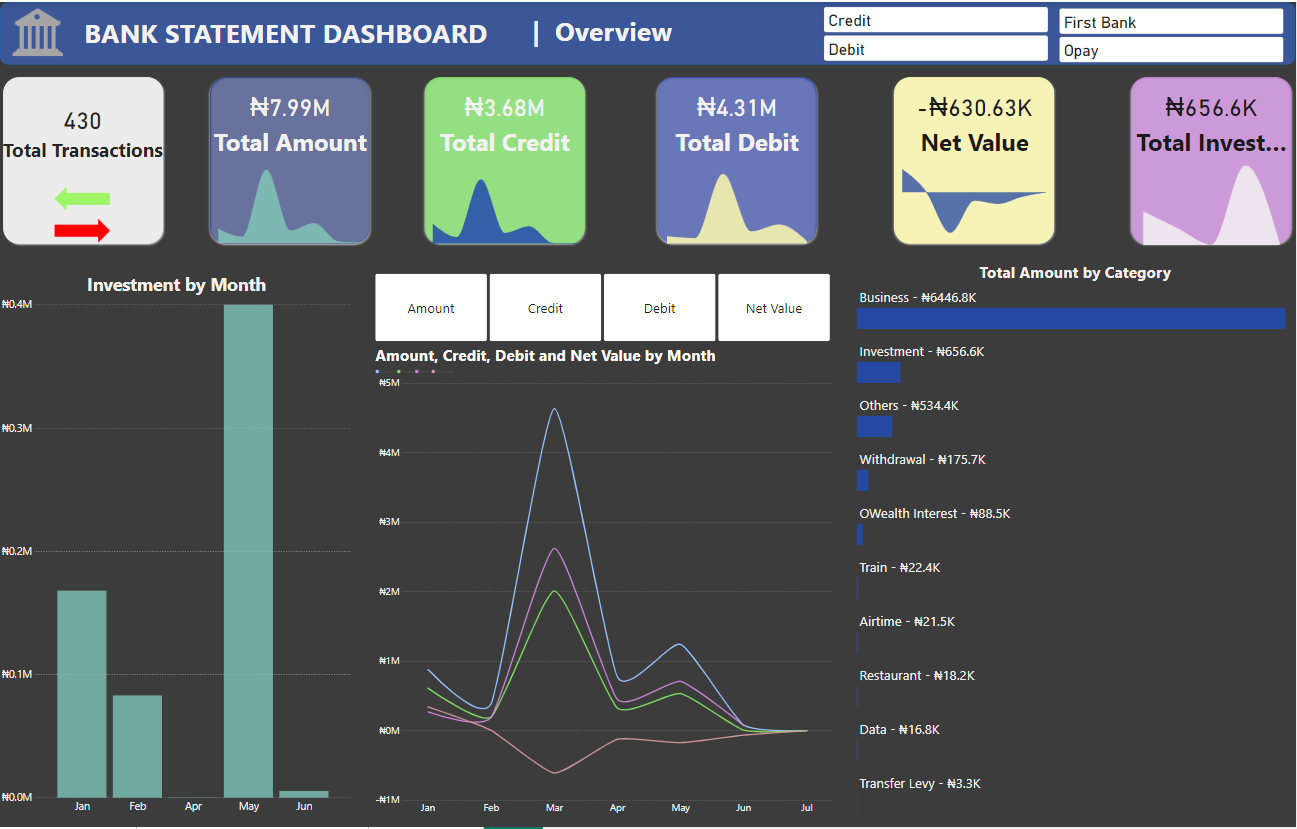

The dashboard page shown, as its layout file describes it:
{"tool":"powerbi","page":{"name":"Dashboard","canvas":[3920,2500],"ordinal":0},"visuals":[{"type":"shape","box":[0,0,3919.9,189.8],"z":0},{"type":"shape","box":[2695,217.5,503.8,522.5],"z":1000},{"type":"lineChart","fields":{"Y":["_Measures.Total Amount"],"Category":["Calendar.Month"]},"box":[1058.6,1033.6,1463.1,1433.1],"z":2000},{"type":"shape","box":[2696.5,215.7,503.3,523.3],"z":3000},{"type":"advancedSlicerVisual","fields":{"Values":["Measure Selector.Measure Selector"]},"box":[1053.6,818.9,1463.1,214.7],"z":4000},{"type":"shape","box":[1980,218,502,524],"z":5000},{"type":"shape","box":[1980,218,502,522],"z":6000},{"type":"shape","box":[1276,220,504,522],"z":7000},{"type":"shape","box":[1276,218,504,524],"z":8000},{"type":"shape","box":[627.2,215.7,503.3,523.3],"z":9000},{"type":"shape","box":[627.2,215.7,503.3,523.3],"z":10000},{"type":"card","fields":{"Values":["Measures (2).Total Amount"]},"box":[626.7,218.3,503.3,280],"z":11000},{"type":"card","fields":{"Values":["Measures (2).Total Credit"]},"box":[1276,220,504,280],"z":12000},{"type":"card","fields":{"Values":["_Measures.Net Profit"]},"box":[2696.5,219.7,504.3,279.6],"z":13000},{"type":"card","fields":{"Values":["Measures (2).Total Debit"]},"box":[1980,216,502,280],"z":14000},{"type":"areaChart","fields":{"Category":["Calendar.Month"],"Y":["_Measures.Total Amount"]},"box":[626.7,476.7,503.3,258.3],"z":15000},{"type":"areaChart","fields":{"Category":["Calendar.Month"],"Y":["_Measures.Total Debit"]},"box":[1980,478,502,260],"z":16000},{"type":"areaChart","fields":{"Category":["Calendar.Month"],"Y":["_Measures.Total Credit"]},"box":[1276,478,504,260],"z":17000},{"type":"areaChart","fields":{"Category":["Calendar.Month"],"Y":["_Measures.Net Value"]},"box":[2696.5,479.4,503.3,259.7],"z":18000},{"type":"clusteredBarChart","title":"Total Amount by Category","fields":{"Category":["Statement.Details"],"Y":["_Measures.Placeholder","_Measures.Total Amount"]},"box":[2586.6,784,1333.3,1682.8],"z":19000},{"type":"textbox","box":[249.7,30,1278.3,159.8],"z":20000},{"type":"shape","box":[0,219.7,503.3,523.3],"z":21000},{"type":"shape","box":[0,219.7,503.3,523.3],"z":22000},{"type":"shape","box":[3415.5,219.7,504.3,524.3],"z":23000},{"type":"shape","box":[3415.5,219.7,504.3,524.3],"z":24000},{"type":"card","fields":{"Values":["_Measures.Total Investment"]},"box":[3415.5,219.7,504.3,279.6],"z":25000},{"type":"areaChart","fields":{"Category":["Calendar.Month"],"Y":["_Measures.Total Investment"]},"box":[3415.5,479.4,504.3,259.7],"z":26000},{"type":"image","box":[30,15,164.8,154.8],"z":27000},{"type":"card","fields":{"Values":["_Measures.Total Transactions"]},"box":[0,219.7,499.3,334.6],"z":28000},{"type":"image","box":[54.9,554.3,389.5,179.8],"z":29000},{"type":"advancedSlicerVisual","fields":{"Values":["Statement.Bank"]},"box":[3200.8,15,689.1,174.8],"z":30000},{"type":"advancedSlicerVisual","fields":{"Values":["Statement.TransactionType"]},"box":[2486.7,10,689.1,174.8],"z":31000},{"type":"actionButton","title":"|  Overview","box":[1528,30,584.2,139.8],"z":32000},{"type":"clusteredColumnChart","fields":{"Category":["Calendar.Month"],"Y":["_Measures.Total Investment"]},"box":[0,818.9,993.7,1647.8],"z":33000}]}

Visuals, with their boxes in screenshot pixels (x1, y1, x2, y2), scaled from the page's 3920x2500 canvas onto the 1297x829 screenshot:
shape: BBox(0, 0, 1296, 63)
shape: BBox(892, 72, 1058, 245)
lineChart - _Measures.Total Amount x Calendar.Month: BBox(350, 343, 834, 818)
shape: BBox(892, 72, 1059, 245)
advancedSlicerVisual - Measure Selector.Measure Selector: BBox(349, 272, 833, 343)
shape: BBox(655, 72, 821, 246)
shape: BBox(655, 72, 821, 245)
shape: BBox(422, 73, 589, 246)
shape: BBox(422, 72, 589, 246)
shape: BBox(208, 72, 374, 245)
shape: BBox(208, 72, 374, 245)
card - Measures (2).Total Amount: BBox(207, 72, 374, 165)
card - Measures (2).Total Credit: BBox(422, 73, 589, 166)
card - _Measures.Net Profit: BBox(892, 73, 1059, 166)
card - Measures (2).Total Debit: BBox(655, 72, 821, 164)
areaChart - Calendar.Month x _Measures.Total Amount: BBox(207, 158, 374, 244)
areaChart - Calendar.Month x _Measures.Total Debit: BBox(655, 159, 821, 245)
areaChart - Calendar.Month x _Measures.Total Credit: BBox(422, 159, 589, 245)
areaChart - Calendar.Month x _Measures.Net Value: BBox(892, 159, 1059, 245)
"Total Amount by Category" clusteredBarChart: BBox(856, 260, 1296, 818)
textbox: BBox(83, 10, 506, 63)
shape: BBox(0, 73, 167, 246)
shape: BBox(0, 73, 167, 246)
shape: BBox(1130, 73, 1296, 247)
shape: BBox(1130, 73, 1296, 247)
card - _Measures.Total Investment: BBox(1130, 73, 1296, 166)
areaChart - Calendar.Month x _Measures.Total Investment: BBox(1130, 159, 1296, 245)
image: BBox(10, 5, 64, 56)
card - _Measures.Total Transactions: BBox(0, 73, 165, 184)
image: BBox(18, 184, 147, 243)
advancedSlicerVisual - Statement.Bank: BBox(1059, 5, 1287, 63)
advancedSlicerVisual - Statement.TransactionType: BBox(823, 3, 1051, 61)
"|  Overview" actionButton: BBox(506, 10, 699, 56)
clusteredColumnChart - Calendar.Month x _Measures.Total Investment: BBox(0, 272, 329, 818)
